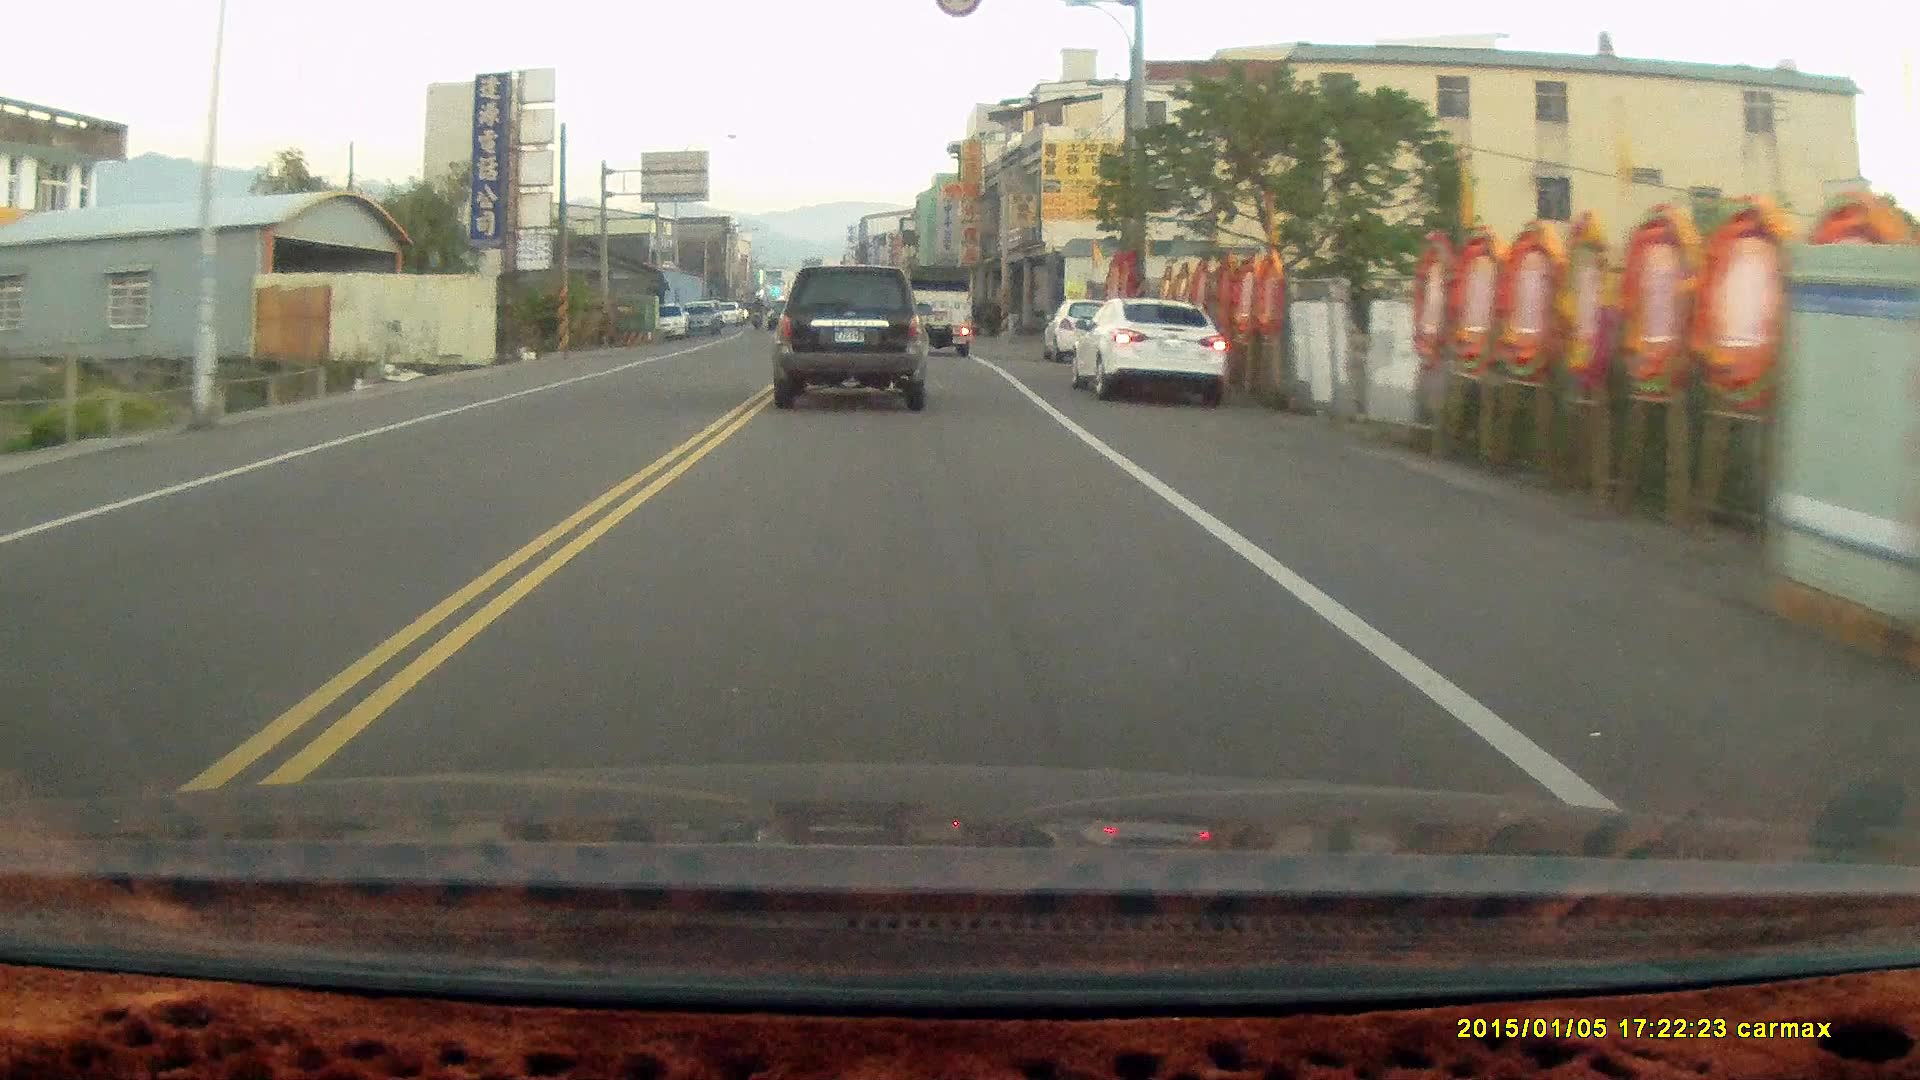vehicle: (771, 262, 934, 413), (1073, 293, 1225, 404), (902, 262, 978, 360)
